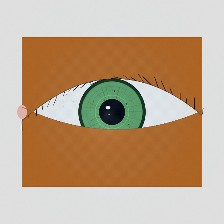pinguecula_lesion: (152, 103, 199, 140)
